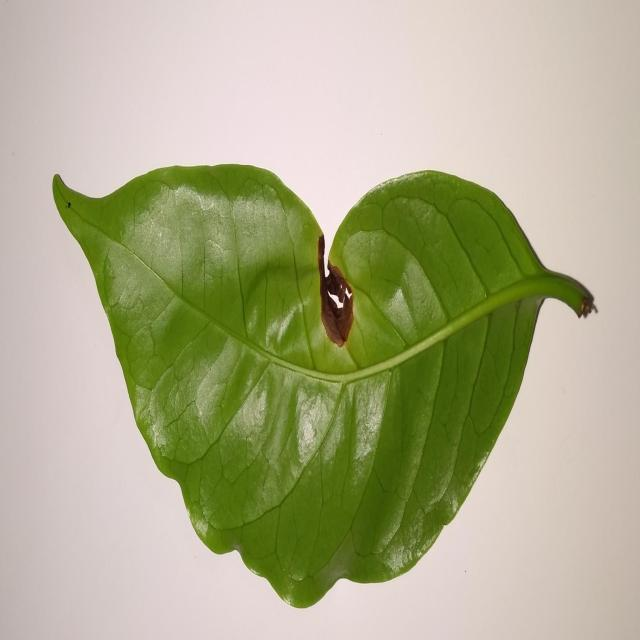Enfermedad-Antracnosis: (50, 164, 597, 612)
